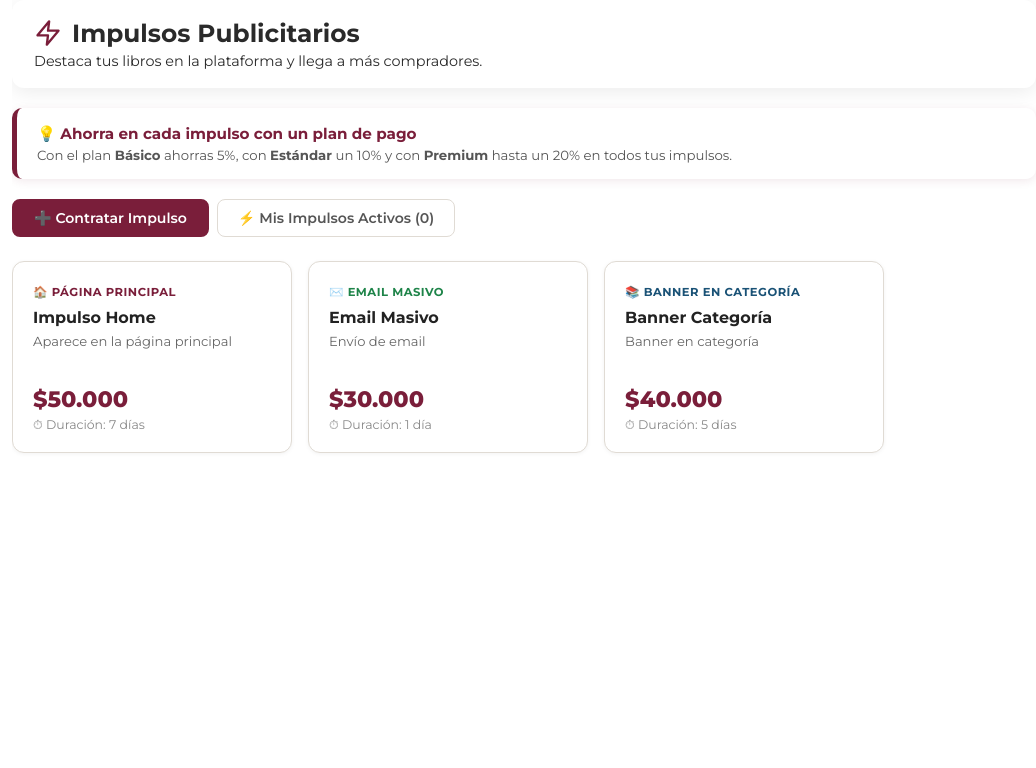
Test: SeccionImpulsos — tab Contratar › contracts email tipo without libro required
The width and height of the screenshot is (1036, 768).
Expected: the heading "Email Masivo" is shown, 329,308 -> 439,327
Click the button "Email Masivo". click: (386, 292)
box: 308,261 -> 588,453
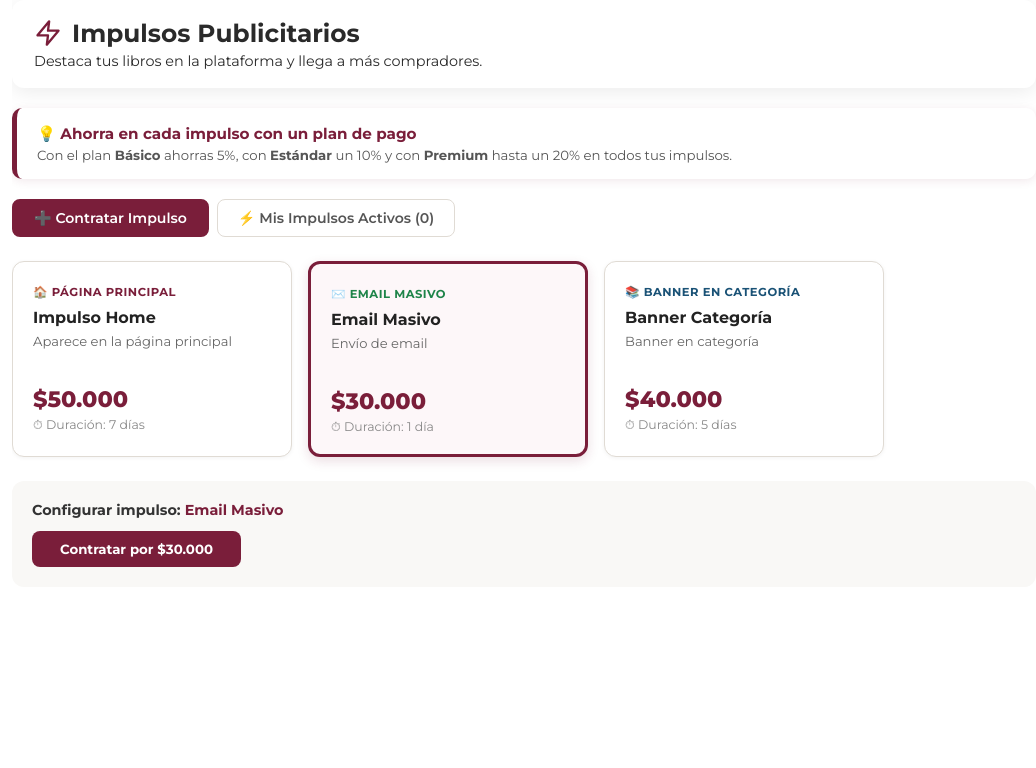
Expected: the button "Contratar por $30.000" is enabled, 32,531 -> 241,567
